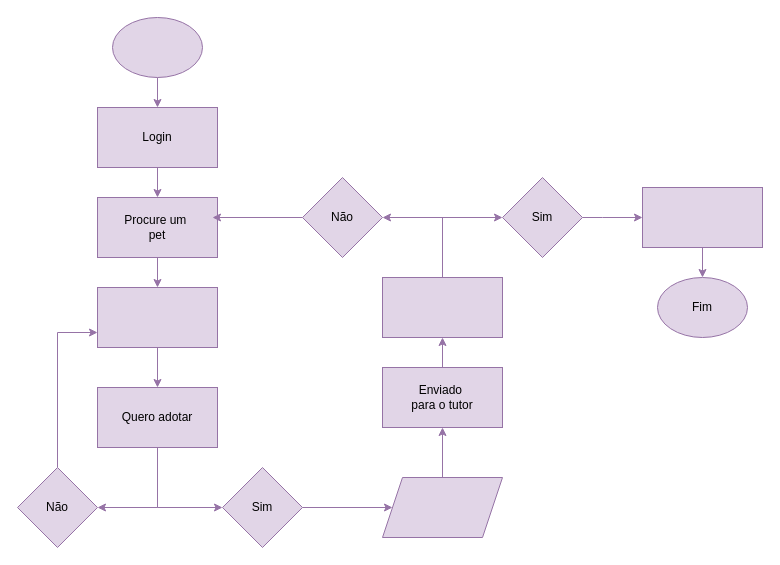
This 780x565 diagram has some shape labels left out. Each missing label, with the centre of its shape:
"Aceitar solicitação" goes at point (442, 307).
"Comunicação entre interessado e o reponsável" goes at point (702, 217).
"Conheça o pet" goes at point (157, 317).
"Formulario" goes at point (442, 507).
"Início" goes at point (157, 47).
